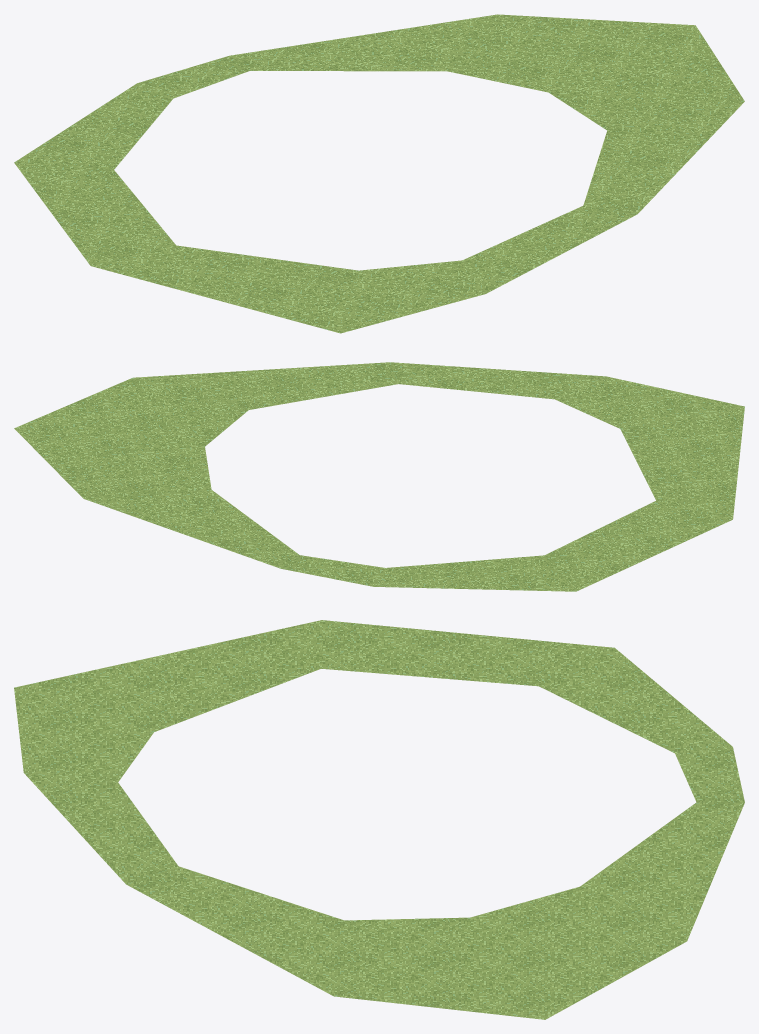
Rendered from kd_stage_135c43_4_141_bounded_piece_0.glb.
The picture shows the model from 3 angles, top to bottom: view 1: azimuth 30°, elevation 25°; view 2: azimuth 150°, elevation 25°; view 3: azimuth 270°, elevation 25°; orthographic projection. The views are drawn at different scales.
Parts seen in each view (by area): view 1: kd_stage_135c43_4_141_bounded_piece_0; view 2: kd_stage_135c43_4_141_bounded_piece_0; view 3: kd_stage_135c43_4_141_bounded_piece_0.
Boxes of the visible parts, bbox=[...] form: kd_stage_135c43_4_141_bounded_piece_0: bbox=[14, 14, 744, 333]; kd_stage_135c43_4_141_bounded_piece_0: bbox=[14, 362, 744, 591]; kd_stage_135c43_4_141_bounded_piece_0: bbox=[14, 620, 744, 1019].
Size of the model in its own units: 1.73 by 0 by 1.34.
Materials: 1 (1 with a texture image).
